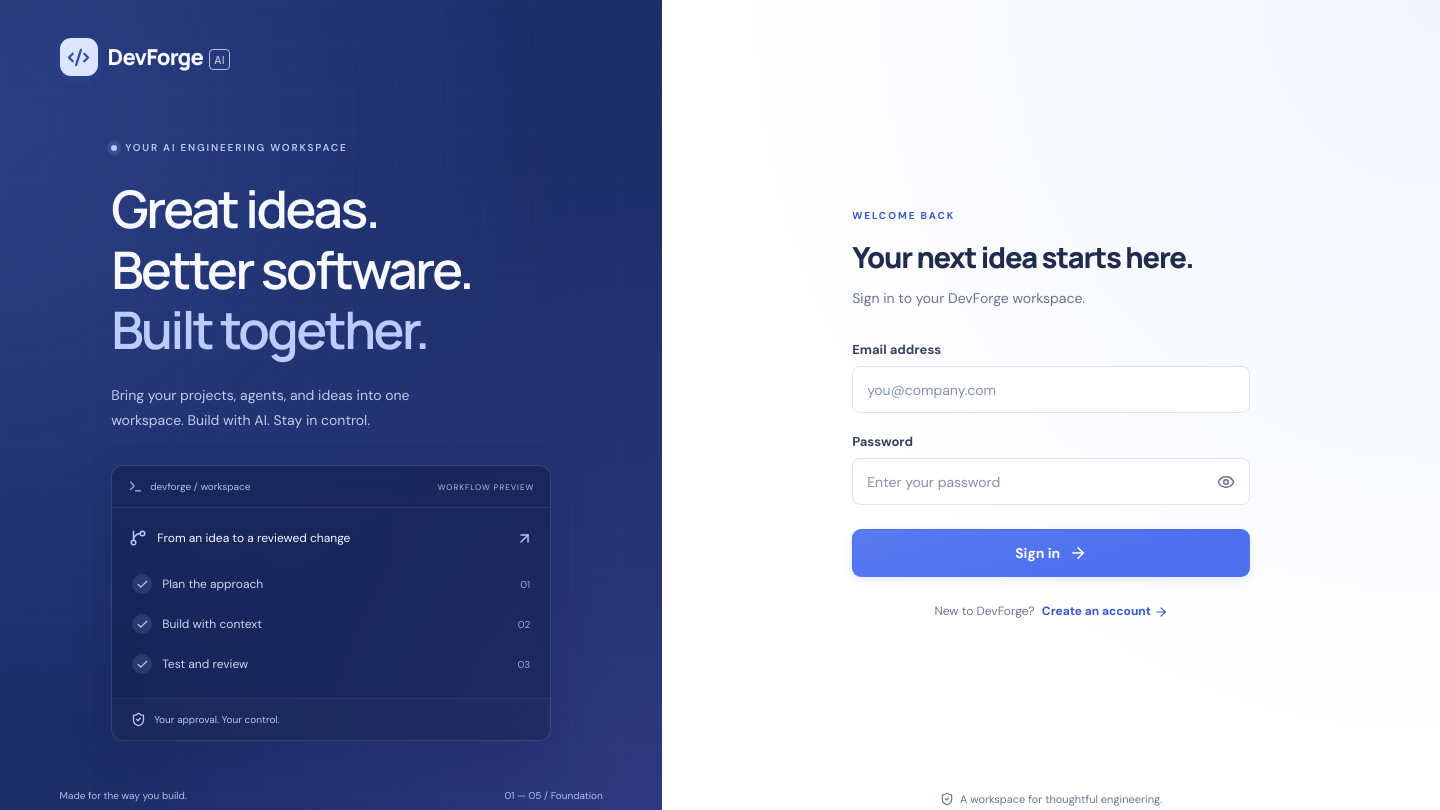
Test: auth forms and routes › disables submission during login and prevents duplicate requests
This screenshot has width=1440, height=810.
Type "alex@example.com" into the field labelled "Email address" at point(1051, 390), box [852,366,1250,413]
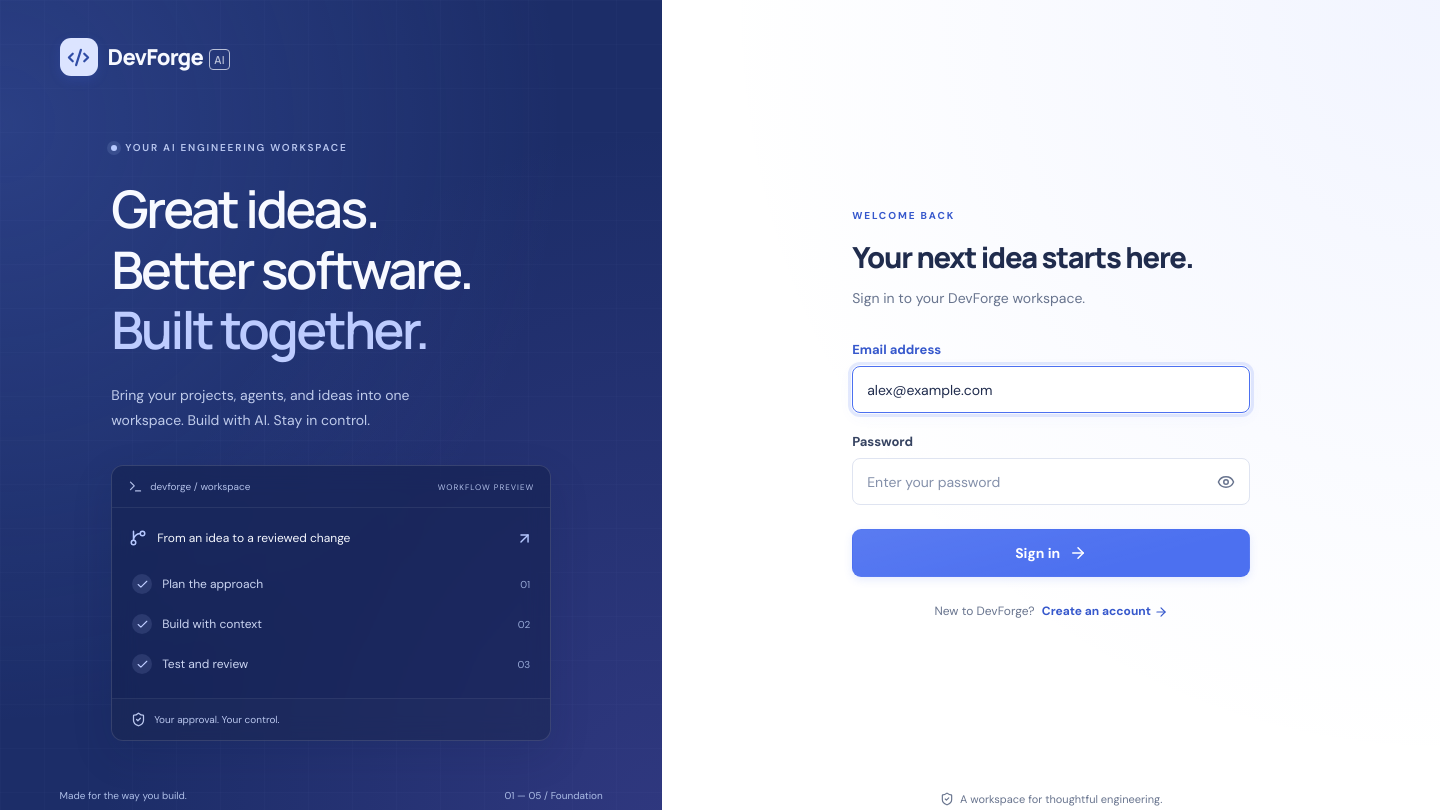
Type "password123" into the password field labelled "Password" at point(1051, 482), box [852,458,1250,505]
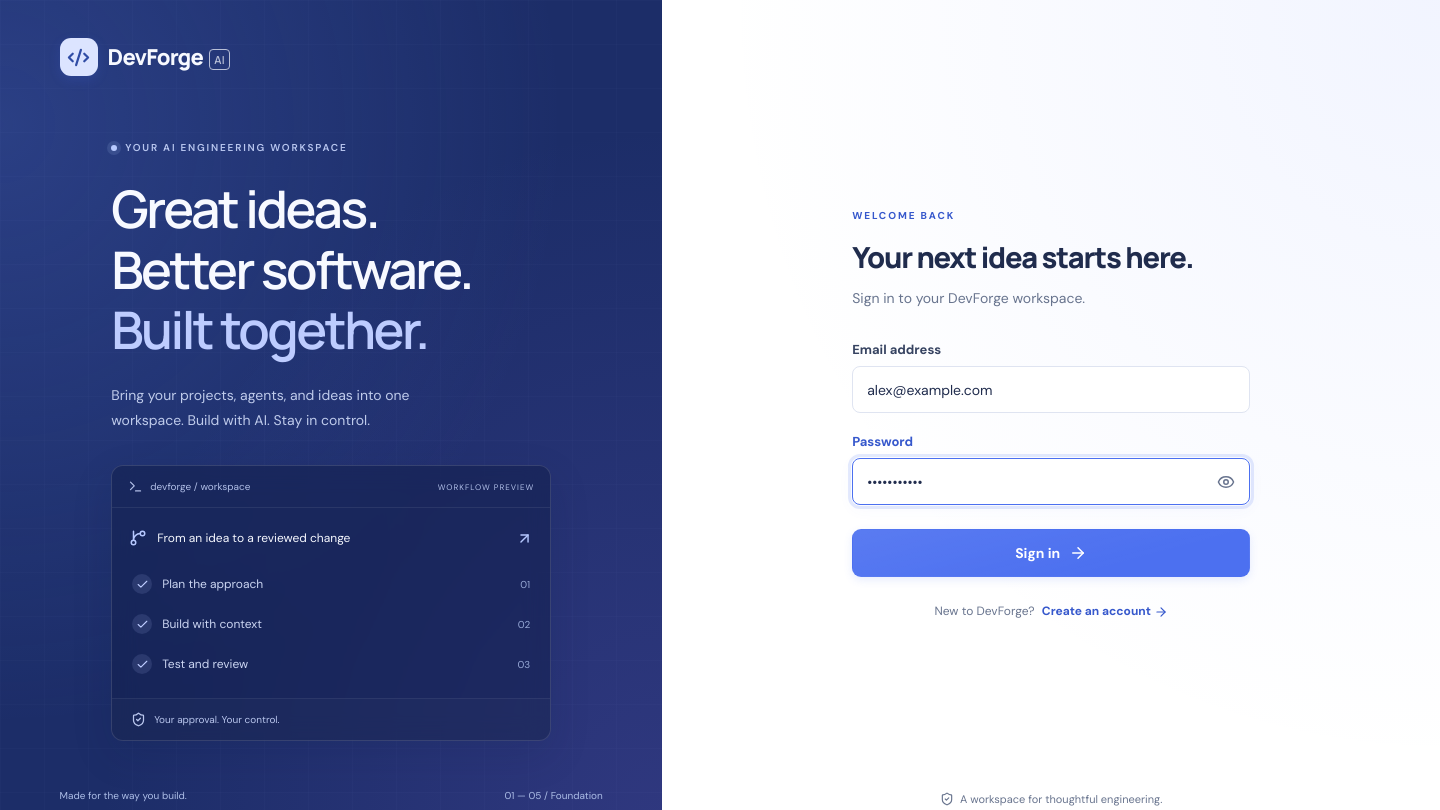
Click the button "Sign in" at point(1051, 553), box [852,529,1250,577]
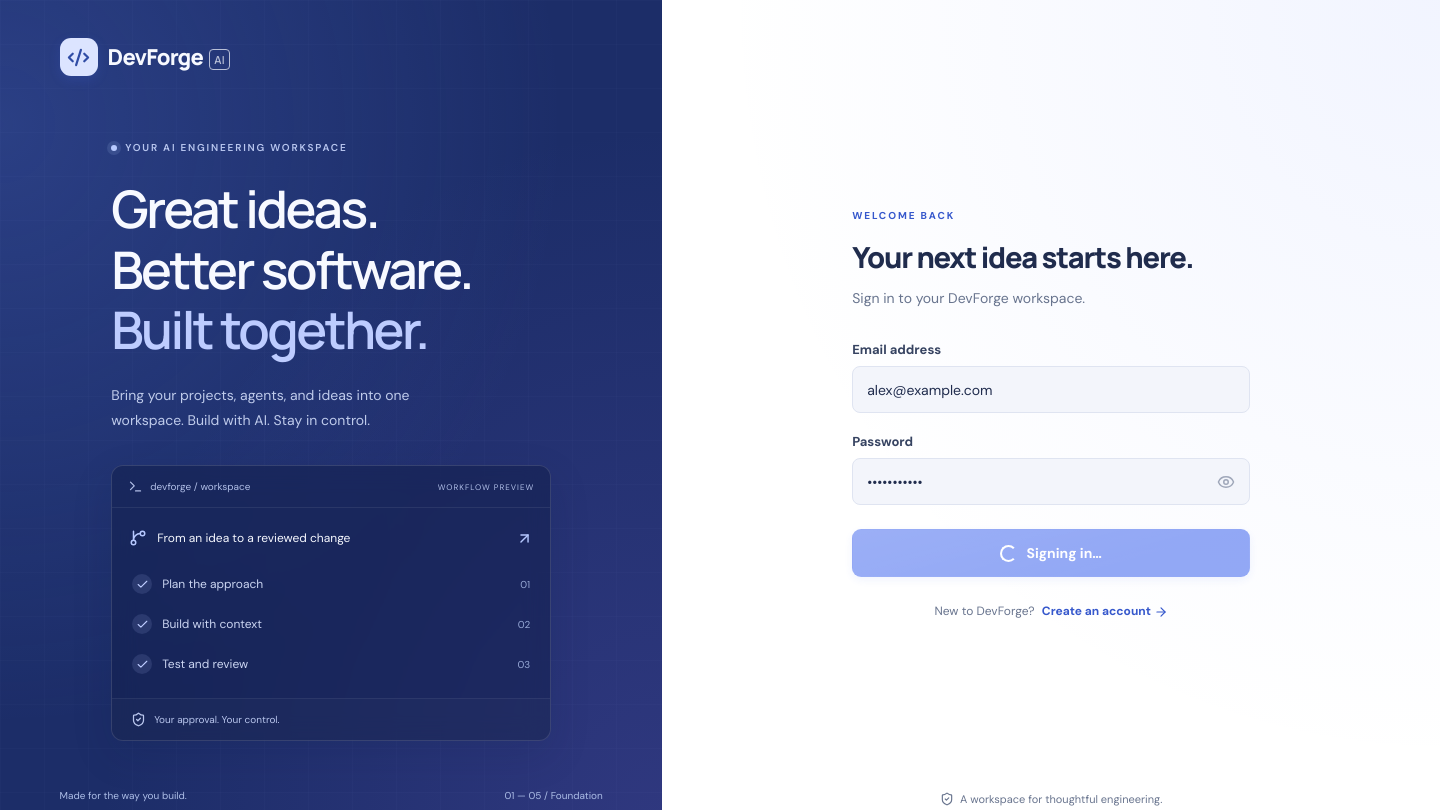
Result: the button "Signing in…" is disabled
Click the button "Signing in…" at point(1051, 553), box [852,529,1250,577]
(page scrolled)
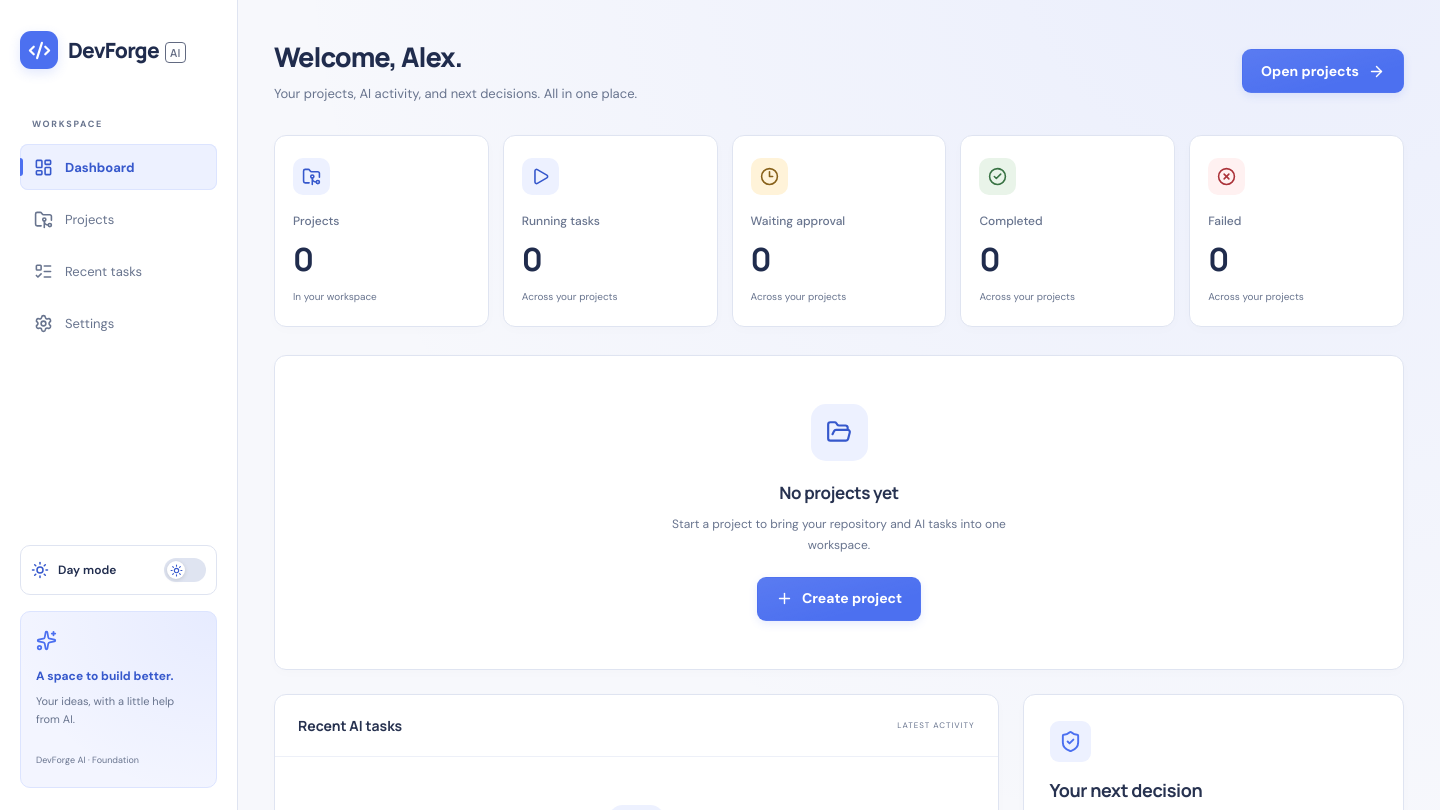
Result: the heading "Welcome, Alex." is shown at [274,38,462,75]
